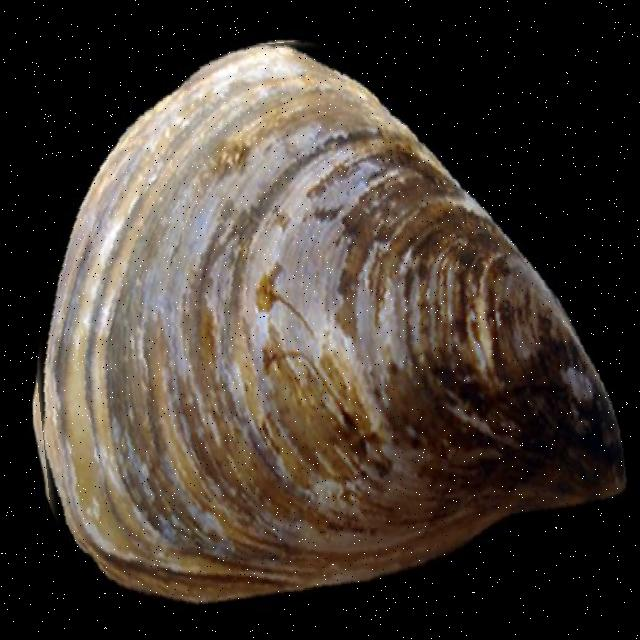Dreissena_bugensis: (19, 26, 626, 605)
